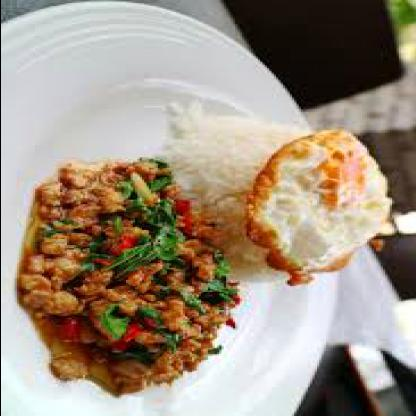Basil Rice: (2, 94, 404, 401)
